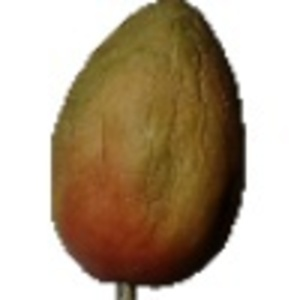mamão: (41, 5, 260, 297)
